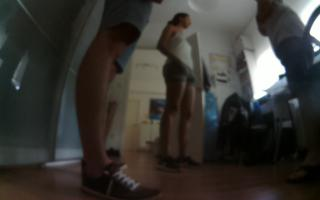person: (72, 1, 165, 200), (249, 1, 320, 190), (151, 11, 208, 176)
